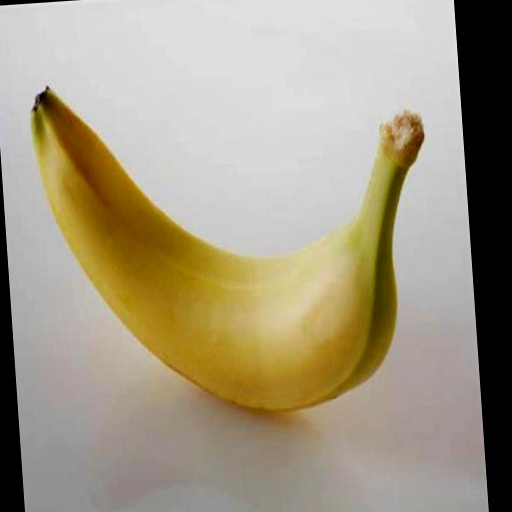fruit: (31, 89, 423, 411)
